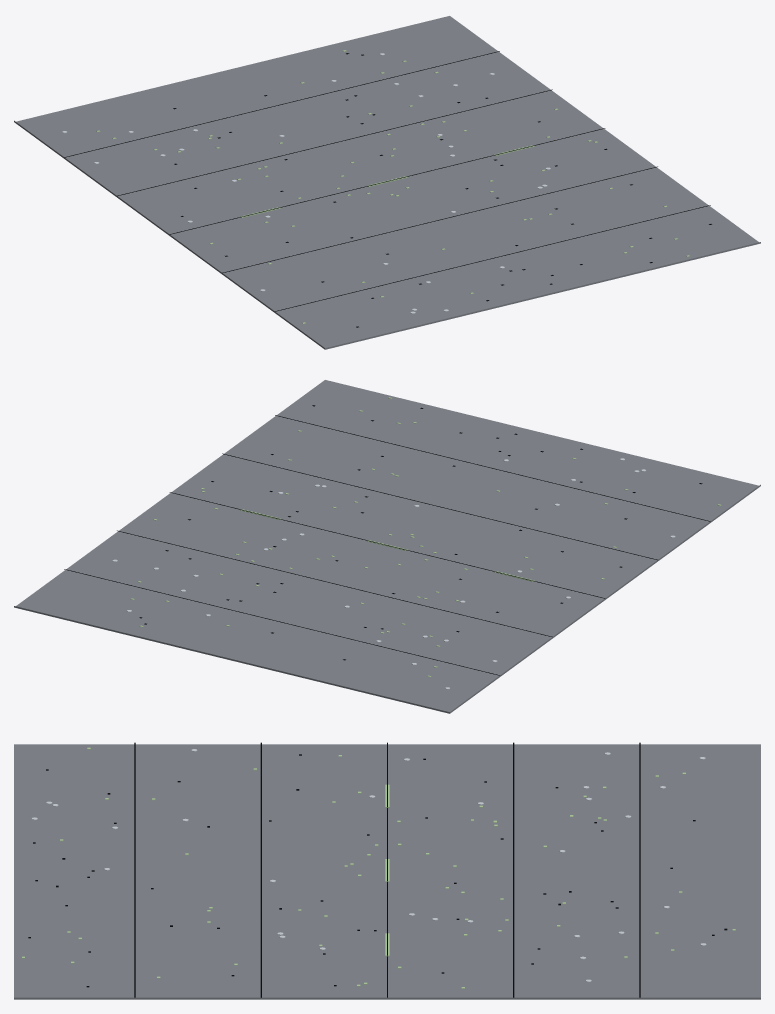
The model's file is tt_aquarium_floor.glb.
3 renders of one model, top to bottom at view 1: azimuth 30°, elevation 25°; view 2: azimuth 150°, elevation 25°; view 3: azimuth 270°, elevation 25°, orthographic. The views are drawn at different scales.
Parts seen in each view (by area): view 1: Terrazzo, Joint_Lines; view 2: Terrazzo, Joint_Lines; view 3: Terrazzo, Joint_Lines, Terrazzo_Chips, Pebble_Discs.
Part boxes in pixels (<box>): Terrazzo: <box>14,16,760,349</box>; Joint_Lines: <box>64,51,710,311</box>; Terrazzo: <box>14,380,760,713</box>; Joint_Lines: <box>64,415,710,675</box>; Terrazzo: <box>14,744,760,999</box>; Joint_Lines: <box>134,742,640,997</box>; Terrazzo_Chips: <box>22,747,735,988</box>; Pebble_Discs: <box>31,749,706,982</box>.
Size of what is drawn, in the model's own units: 5.5 by 0.022 by 6.8.
5 materials, 3 textured.
